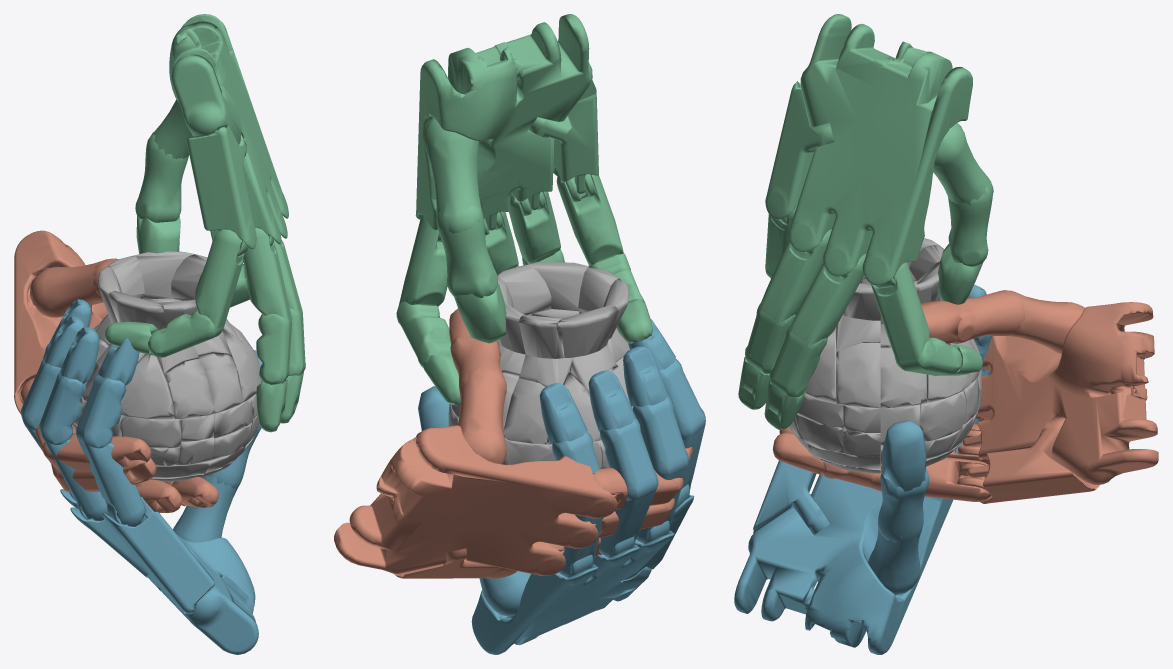
The picture shows the model from 3 angles, left to right: view 1: azimuth 30°, elevation 25°; view 2: azimuth 150°, elevation 25°; view 3: azimuth 270°, elevation 25°; orthographic projection. The views are drawn at different scales.
Bounding box in the file's own units: 0.1448 × 0.3246 × 0.2045.
